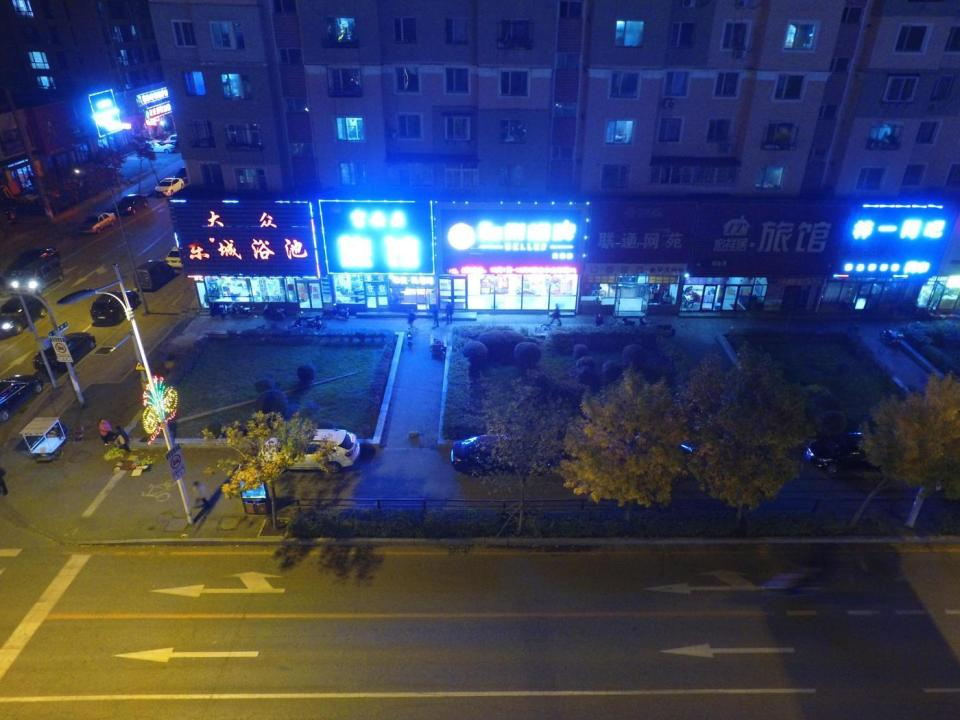car: (257, 428, 362, 473), (804, 431, 911, 474), (452, 433, 556, 477), (598, 435, 702, 479), (33, 332, 95, 372), (4, 246, 58, 288), (0, 291, 47, 334), (0, 372, 42, 418), (91, 289, 139, 324), (164, 243, 199, 271), (79, 212, 115, 236), (116, 193, 147, 215), (154, 177, 184, 197), (139, 139, 176, 154)
van: (14, 257, 64, 295), (133, 260, 174, 291)
